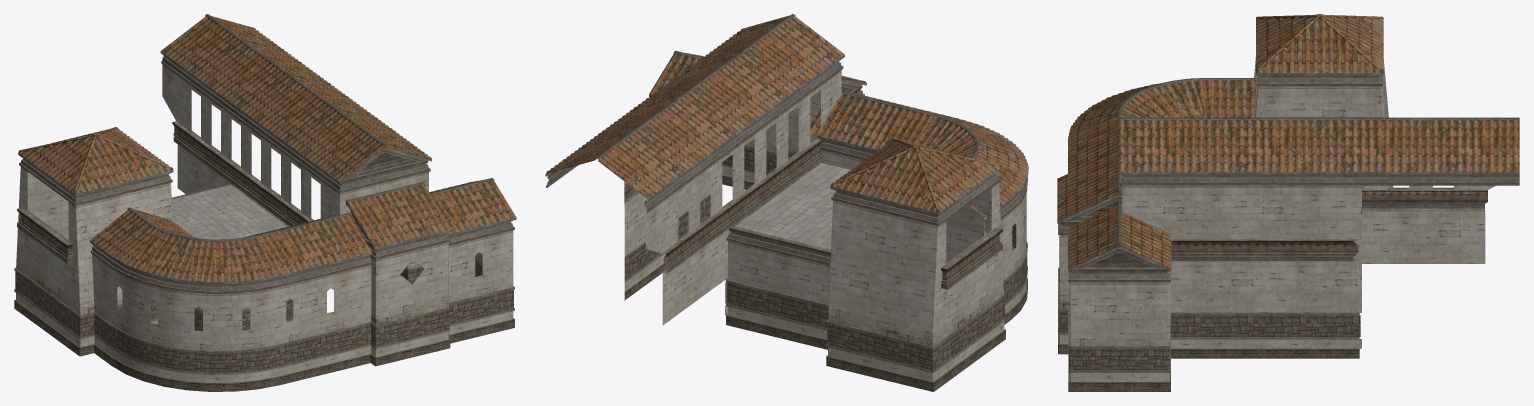
The model's file is Tower3.fbx.
3 renders of one model, left to right at view 1: azimuth 30°, elevation 25°; view 2: azimuth 150°, elevation 25°; view 3: azimuth 270°, elevation 25°, orthographic. The views are drawn at different scales.
Visible parts, largest first — view 1: LV_Campagna_Uni_CityH3HWall_SM_CJH; view 2: LV_Campagna_Uni_CityH3HWall_SM_CJH; view 3: LV_Campagna_Uni_CityH3HWall_SM_CJH.
Boxes of the visible parts, x1,y1,x2,y2 form: LV_Campagna_Uni_CityH3HWall_SM_CJH: (14, 14, 516, 391); LV_Campagna_Uni_CityH3HWall_SM_CJH: (545, 14, 1028, 391); LV_Campagna_Uni_CityH3HWall_SM_CJH: (1057, 14, 1519, 391).
Bounding box in the file's own units: 7.12 × 3.61 × 7.03.
20 materials, 20 textured.
